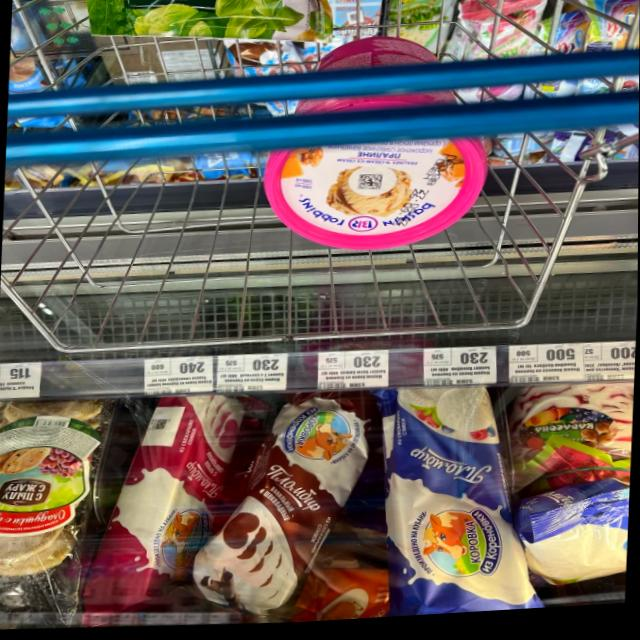datamatrix: (355, 176, 384, 197), (152, 419, 168, 433)
